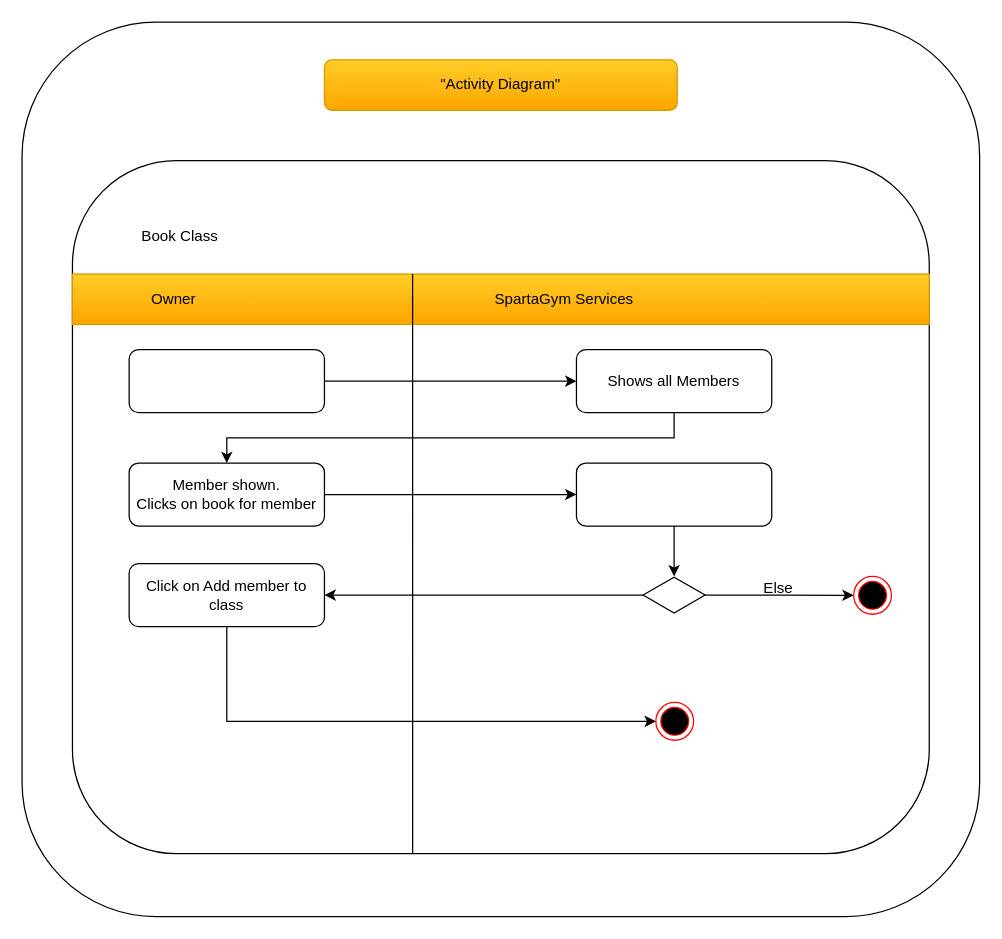
The diagram is 1002 pixels wide and 939 high, and some of its shapes have lost their labels. The shapes that lost their labels are listed below. From the top down, each one's centre as x and y in pixels, then its label:
At point 226,380: "Click on Members icon".
At point 673,494: "Member is active".
